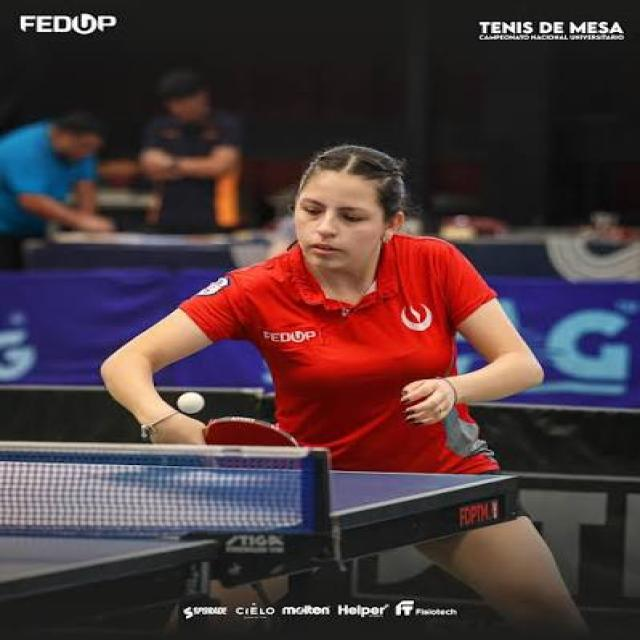TT Net: (0, 434, 337, 548)
TT Racket: (194, 405, 308, 477)
TT Table: (0, 460, 507, 592)
